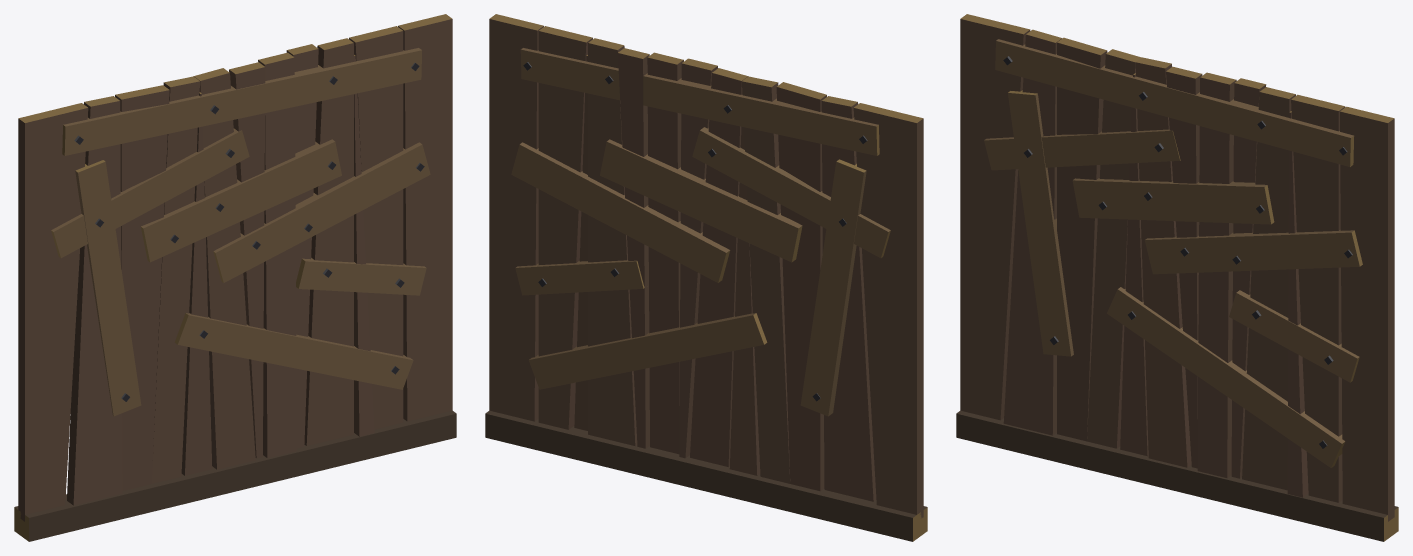
File: Wall_1B_4m.fbx
3 views of the same model, side by side, from view 1: azimuth 30°, elevation 25°; view 2: azimuth 150°, elevation 25°; view 3: azimuth 330°, elevation 25° (orthographic).
Visible parts, largest first — view 1: polySurface2125; view 2: polySurface2125; view 3: polySurface2125.
Boxes of the visible parts, <box> form: polySurface2125: <box>14,14,456,541</box>; polySurface2125: <box>485,14,927,541</box>; polySurface2125: <box>956,14,1398,541</box>.
Bounding box in the file's own units: 400 × 372 × 24.19.
